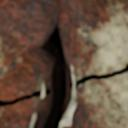broken_brick: (0, 0, 54, 100), (64, 0, 127, 76), (78, 74, 127, 127), (0, 99, 36, 127)
crack: (0, 0, 127, 127)
